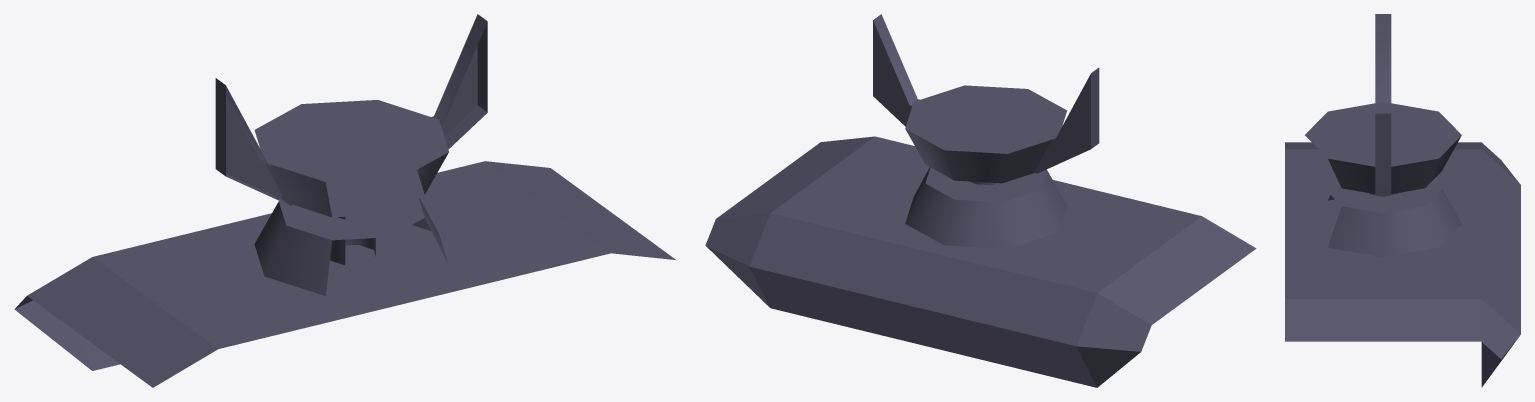
File: tool_grappler.fbx
3 views of the same model, side by side, from view 1: azimuth 30°, elevation 25°; view 2: azimuth 150°, elevation 25°; view 3: azimuth 270°, elevation 25° (orthographic). The views are drawn at different scales.
Visible parts, largest first — view 1: tool_grappler_base, tool_grappler_hook_5313, tool_grappler_hook_claw_L, tool_grappler_hook_claw_R; view 2: tool_grappler_base, tool_grappler_hook_5313, tool_grappler_hook_claw_R, tool_grappler_hook_claw_L; view 3: tool_grappler_base, tool_grappler_hook_5313, tool_grappler_hook_claw_R, tool_grappler_hook_claw_L.
Boxes of the visible parts, x1,y1,x2,y2 form: tool_grappler_base: [14, 161, 675, 387]; tool_grappler_hook_5313: [254, 100, 448, 265]; tool_grappler_hook_claw_L: [417, 14, 487, 171]; tool_grappler_hook_claw_R: [215, 78, 292, 205]; tool_grappler_base: [705, 136, 1256, 387]; tool_grappler_hook_5313: [905, 85, 1066, 185]; tool_grappler_hook_claw_R: [1035, 67, 1099, 173]; tool_grappler_hook_claw_L: [873, 14, 919, 126]; tool_grappler_base: [1285, 142, 1520, 387]; tool_grappler_hook_5313: [1305, 102, 1461, 196]; tool_grappler_hook_claw_R: [1375, 14, 1391, 103]; tool_grappler_hook_claw_L: [1375, 113, 1391, 195].
Size of the model in its own units: 60 by 35 by 30.
